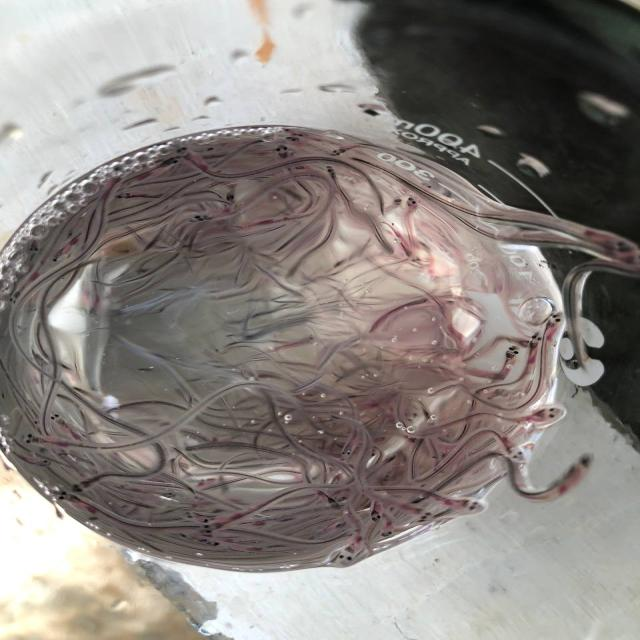glass_eel: (529, 403, 566, 426), (604, 235, 636, 254), (334, 545, 358, 566), (612, 252, 640, 268), (458, 500, 486, 516), (505, 446, 529, 464), (545, 310, 566, 330), (175, 143, 197, 162), (576, 451, 595, 472), (18, 431, 40, 448), (50, 489, 74, 504), (410, 508, 435, 522), (109, 164, 126, 184), (187, 211, 210, 225), (160, 154, 180, 170), (70, 479, 90, 495), (111, 190, 136, 202), (528, 330, 543, 350), (274, 143, 292, 159), (370, 508, 388, 524), (48, 251, 68, 265), (29, 458, 52, 470), (504, 344, 520, 361), (26, 239, 42, 256), (337, 448, 354, 463), (48, 410, 63, 426), (405, 196, 419, 212), (28, 414, 42, 430), (197, 516, 218, 526), (202, 537, 221, 548), (378, 528, 395, 540), (324, 498, 341, 510), (224, 191, 238, 205), (8, 292, 22, 306), (284, 136, 300, 148), (328, 148, 347, 158), (198, 525, 215, 536), (390, 196, 404, 208), (161, 490, 177, 500), (324, 164, 336, 177), (204, 144, 218, 154), (292, 132, 308, 140), (408, 410, 422, 418), (281, 128, 294, 135)
